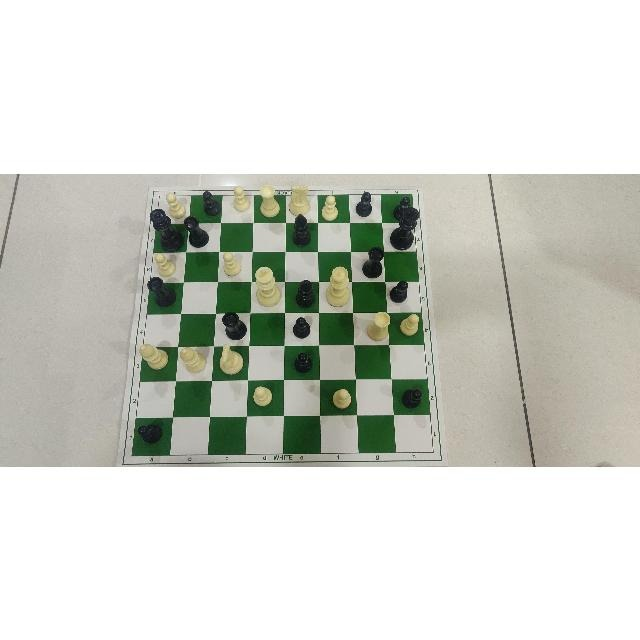black-bishop: (292, 212, 312, 248), (294, 279, 315, 307)
black-king: (393, 207, 424, 249)
black-pawn: (136, 421, 164, 446), (292, 350, 315, 375), (200, 189, 223, 214), (289, 314, 310, 339), (389, 279, 411, 302), (400, 388, 425, 407), (356, 190, 375, 214), (393, 193, 411, 213)
black-queen: (149, 208, 178, 248)
black-rook: (144, 276, 179, 306), (220, 311, 246, 341), (183, 215, 209, 245), (363, 245, 386, 277)
white-bishop: (138, 342, 168, 372), (178, 344, 206, 375)
white-king: (252, 265, 284, 307)
white-knight: (215, 343, 243, 375), (290, 182, 314, 210)
white-pawn: (398, 310, 423, 335), (220, 251, 242, 277), (231, 184, 250, 212), (329, 386, 352, 409), (252, 382, 274, 406), (152, 250, 173, 275), (324, 192, 340, 218), (165, 193, 180, 216)
white-queen: (324, 263, 352, 307)
white-rook: (368, 310, 393, 340), (258, 183, 279, 217)
